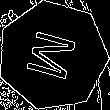M_E: (22, 26, 84, 85)
